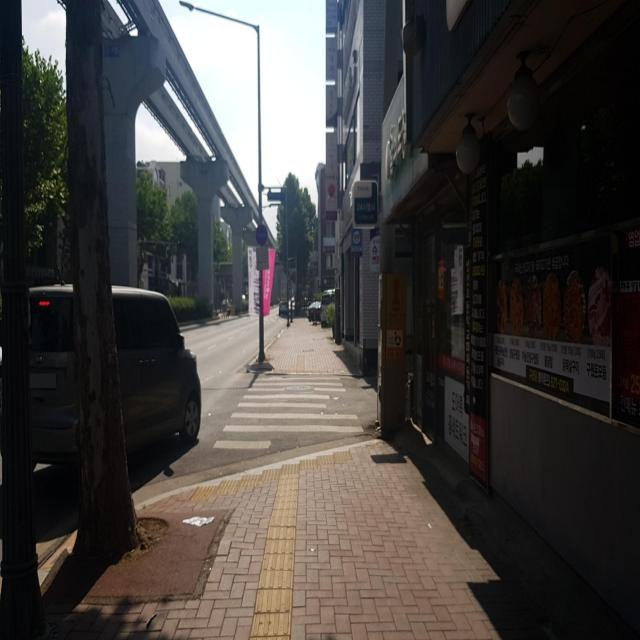횡단보도: (212, 375, 365, 450)
